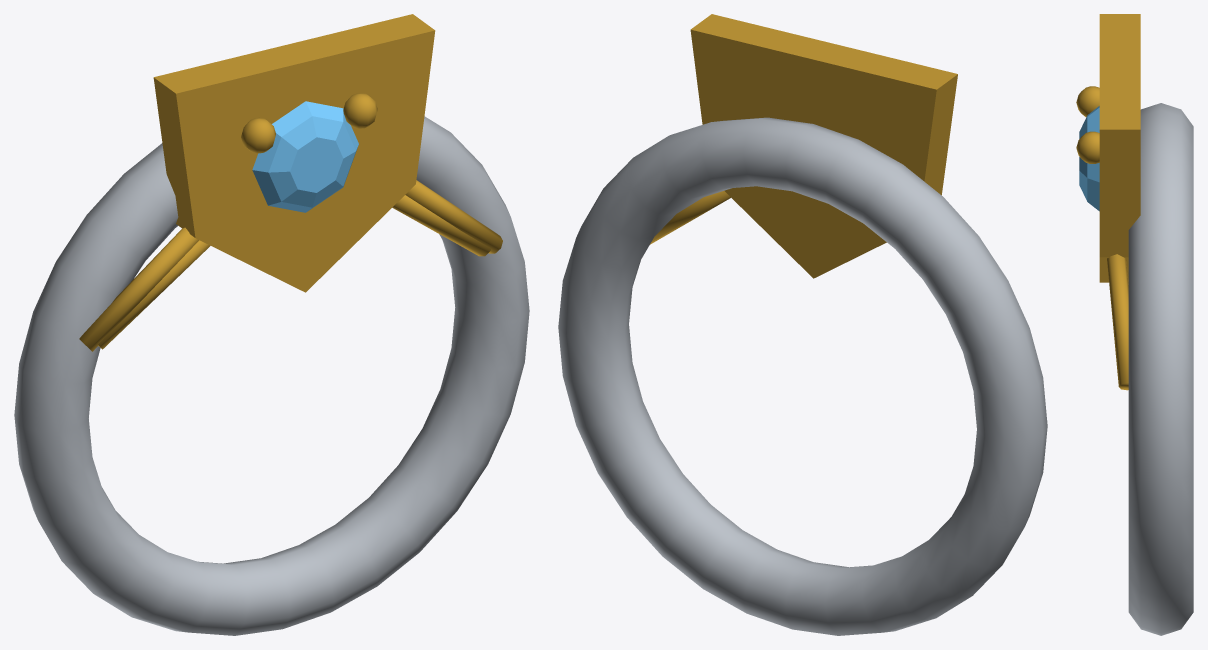
Rendered from acc_guardian_ring.fbx.
The picture shows the model from 3 angles, left to right: view 1: azimuth 30°, elevation 25°; view 2: azimuth 150°, elevation 25°; view 3: azimuth 270°, elevation 25°; orthographic projection. The views are drawn at different scales.
Visible parts, largest first — view 1: acc_guardian_ring; view 2: acc_guardian_ring; view 3: acc_guardian_ring.
Part boxes in pixels (x1,y1,x2,y2): acc_guardian_ring: (14, 14, 529, 635); acc_guardian_ring: (558, 14, 1047, 635); acc_guardian_ring: (1076, 14, 1193, 635).
Bounding box in the file's own units: 0.39 × 0.435 × 0.0858.
